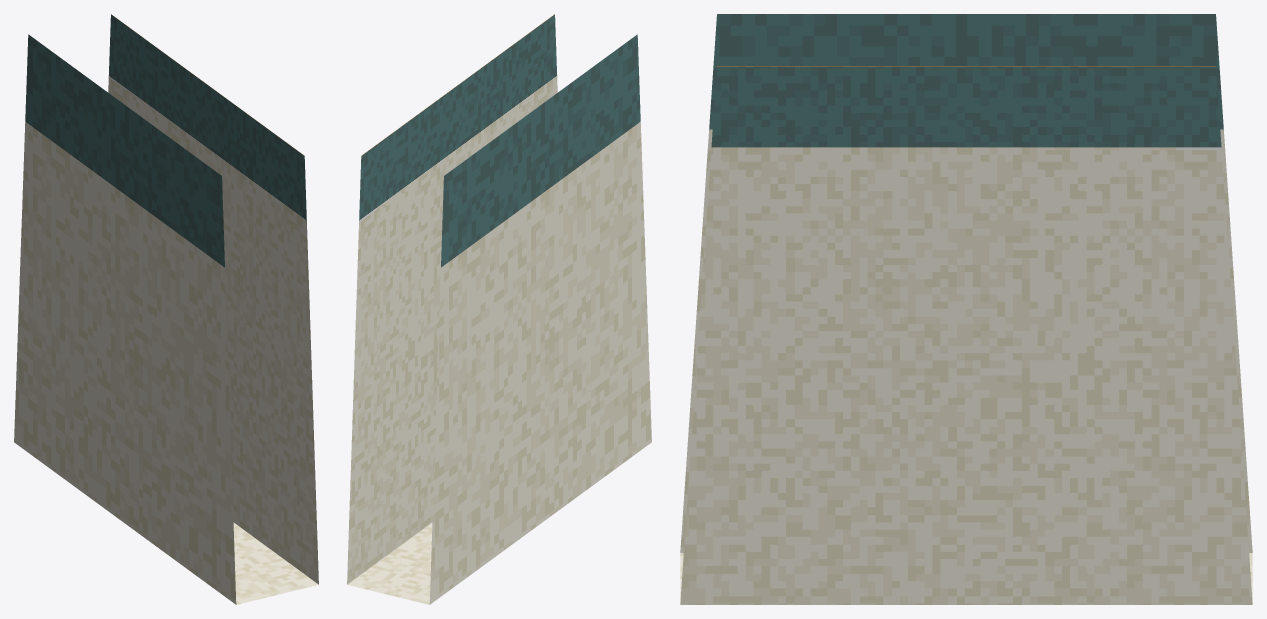
Rendered from MurallaSoloMedioGrecia.fbx.
3 views of the same model, side by side, from view 1: azimuth 30°, elevation 25°; view 2: azimuth 150°, elevation 25°; view 3: azimuth 270°, elevation 25° (orthographic). The views are drawn at different scales.
Visible parts, largest first — view 1: MurallaEnMedio; view 2: MurallaEnMedio; view 3: MurallaEnMedio.
Part boxes in pixels (left/top/right/bottom): MurallaEnMedio: left=14, top=14, right=318, bottom=604; MurallaEnMedio: left=347, top=14, right=651, bottom=604; MurallaEnMedio: left=680, top=14, right=1252, bottom=604.
Bounding box in the file's own units: 1.24 × 5.78 × 6.
